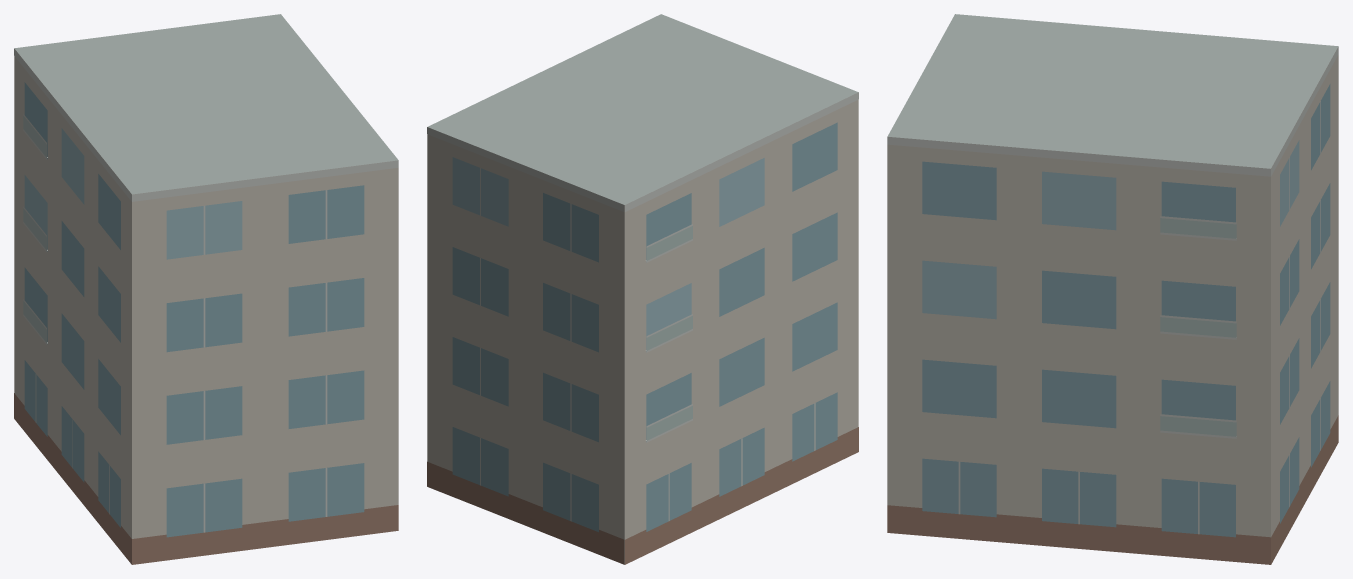
Rendered from survey-upis-33010176.glb.
3 views of the same model, side by side, from view 1: azimuth 30°, elevation 25°; view 2: azimuth 150°, elevation 25°; view 3: azimuth 270°, elevation 25° (orthographic). The views are drawn at different scales.
Parts seen in each view (by area): view 1: survey-upis-33010176.tmp; view 2: survey-upis-33010176.tmp; view 3: survey-upis-33010176.tmp.
Boxes of the visible parts, box(x1,y1,x2,y2) form: survey-upis-33010176.tmp: box(14, 14, 398, 564); survey-upis-33010176.tmp: box(427, 14, 858, 564); survey-upis-33010176.tmp: box(887, 14, 1338, 564).
Size of the model in its own units: 10.23 by 12.2 by 12.61.
